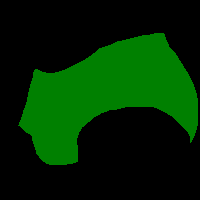mutande: (18, 32, 198, 165)
